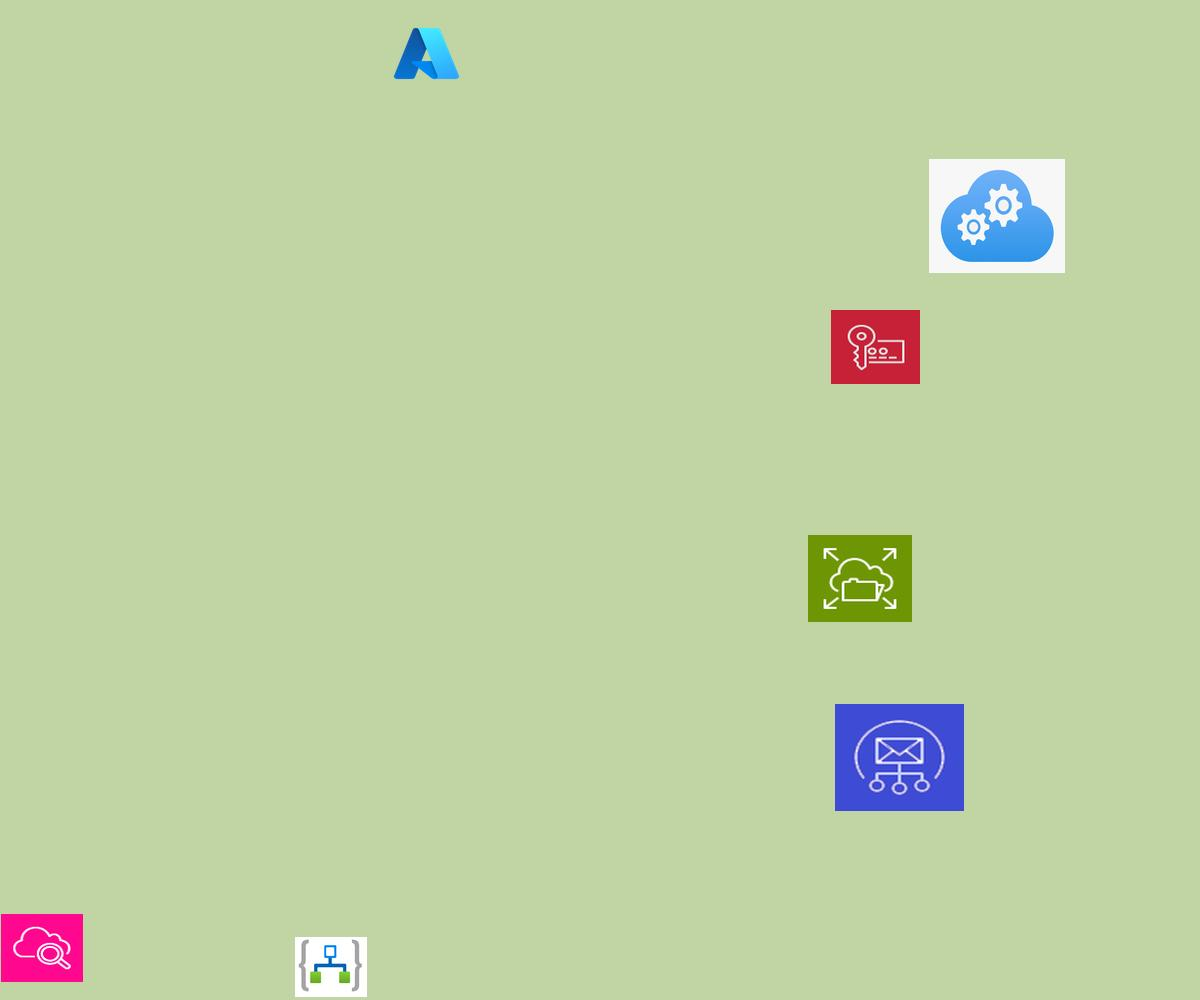AWS-CloudWatch: (1, 914, 83, 982)
AWS-EFS: (808, 535, 912, 622)
AWS-Key-Management-Service: (831, 310, 920, 384)
AWS-Simple-Email-Service: (835, 704, 964, 811)
Azure_cloud_services: (929, 159, 1065, 273)
Azure_integration-204-Logic-Apps: (295, 937, 367, 997)
Azure_services: (391, 24, 462, 83)
